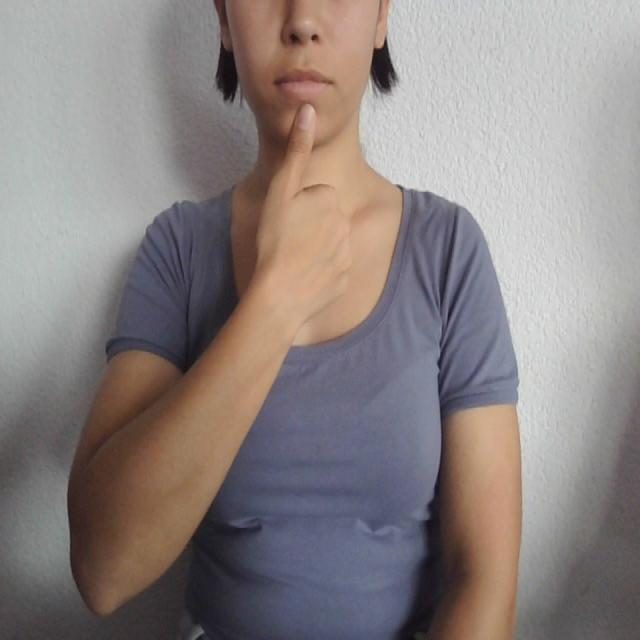Baba: (270, 59, 346, 177)
